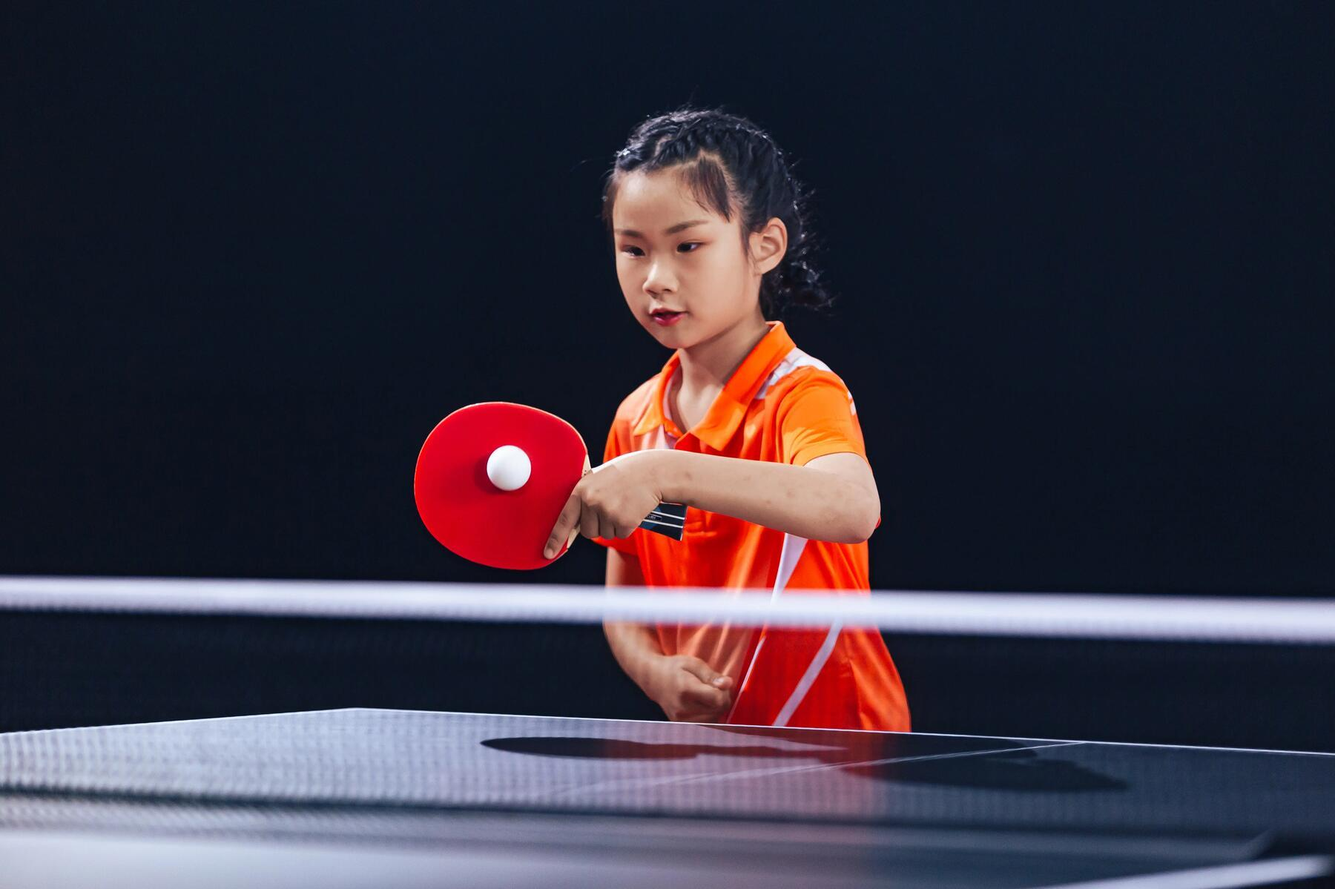ball_pingpong: (487, 447, 533, 492)
